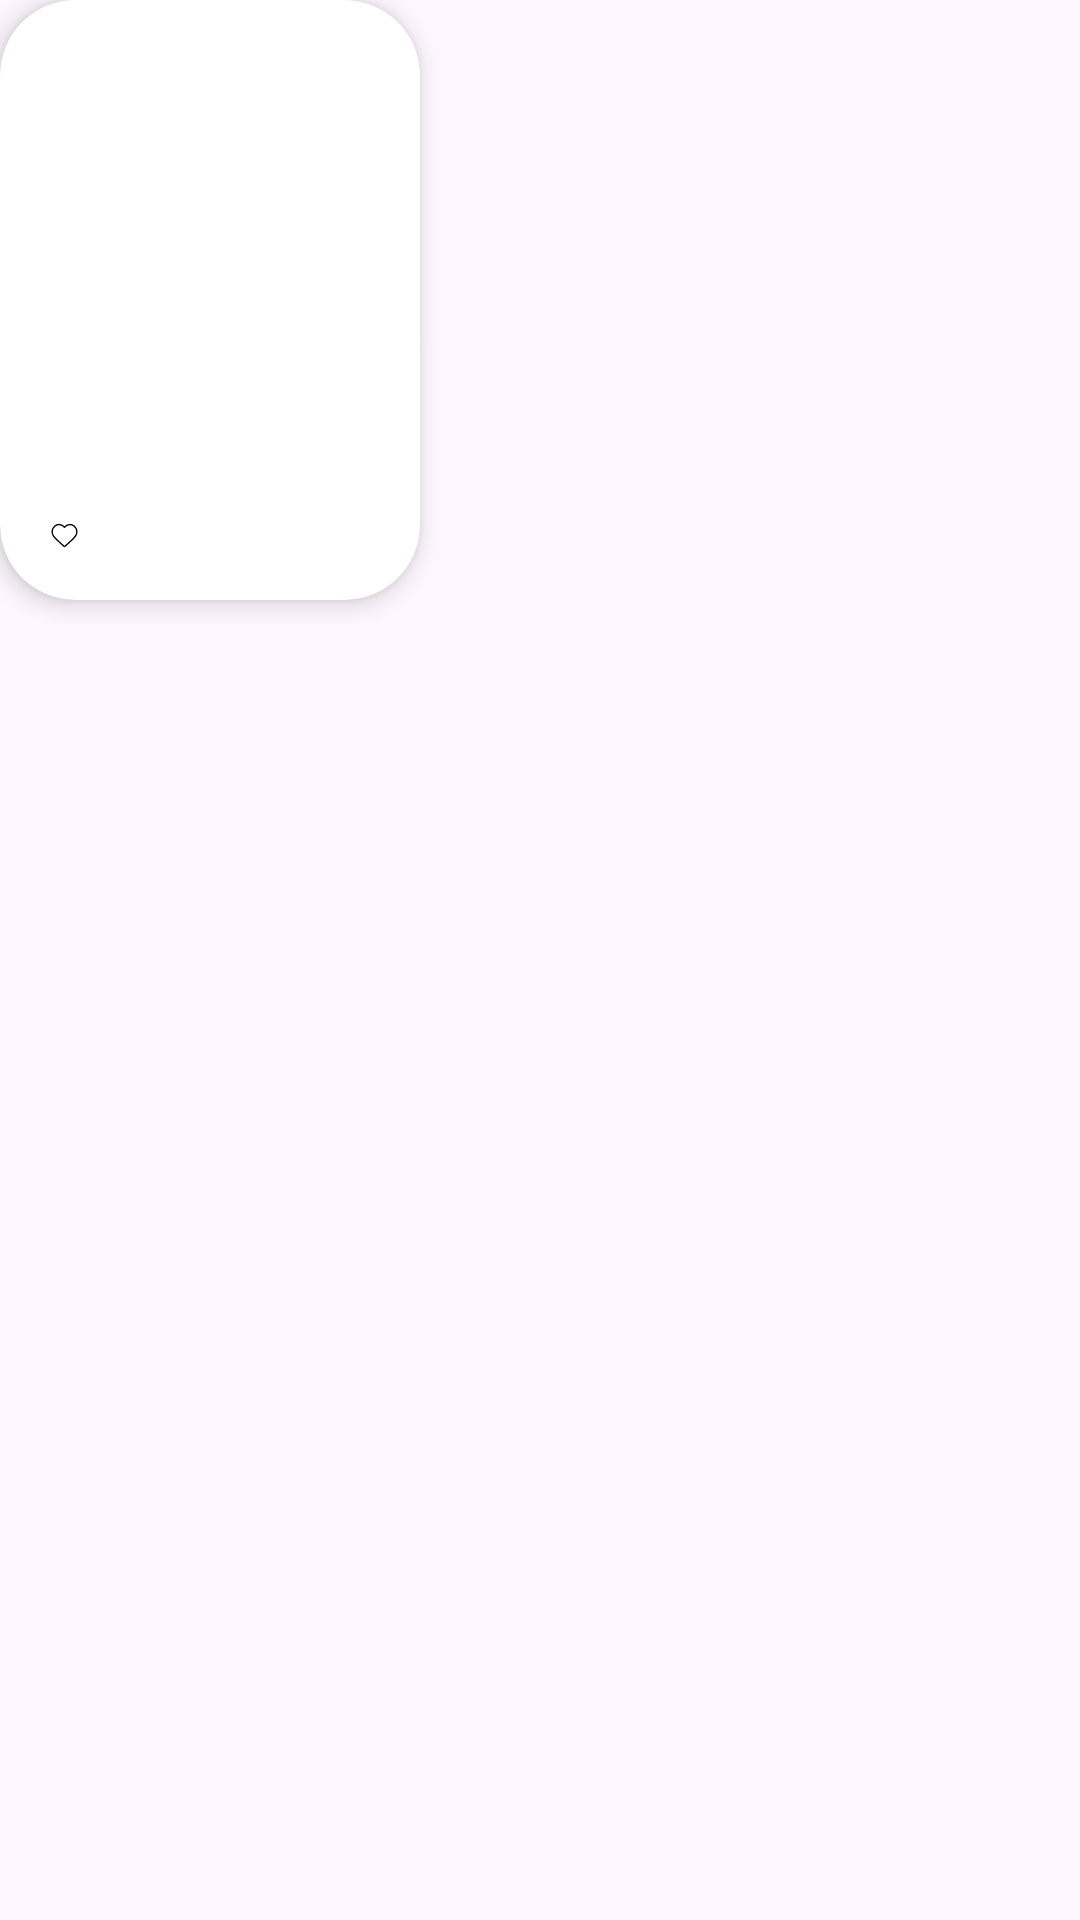

Icon click points for this 1080x1920 phone screenshot, format (x,y):
heart unfilled: (64,535)
